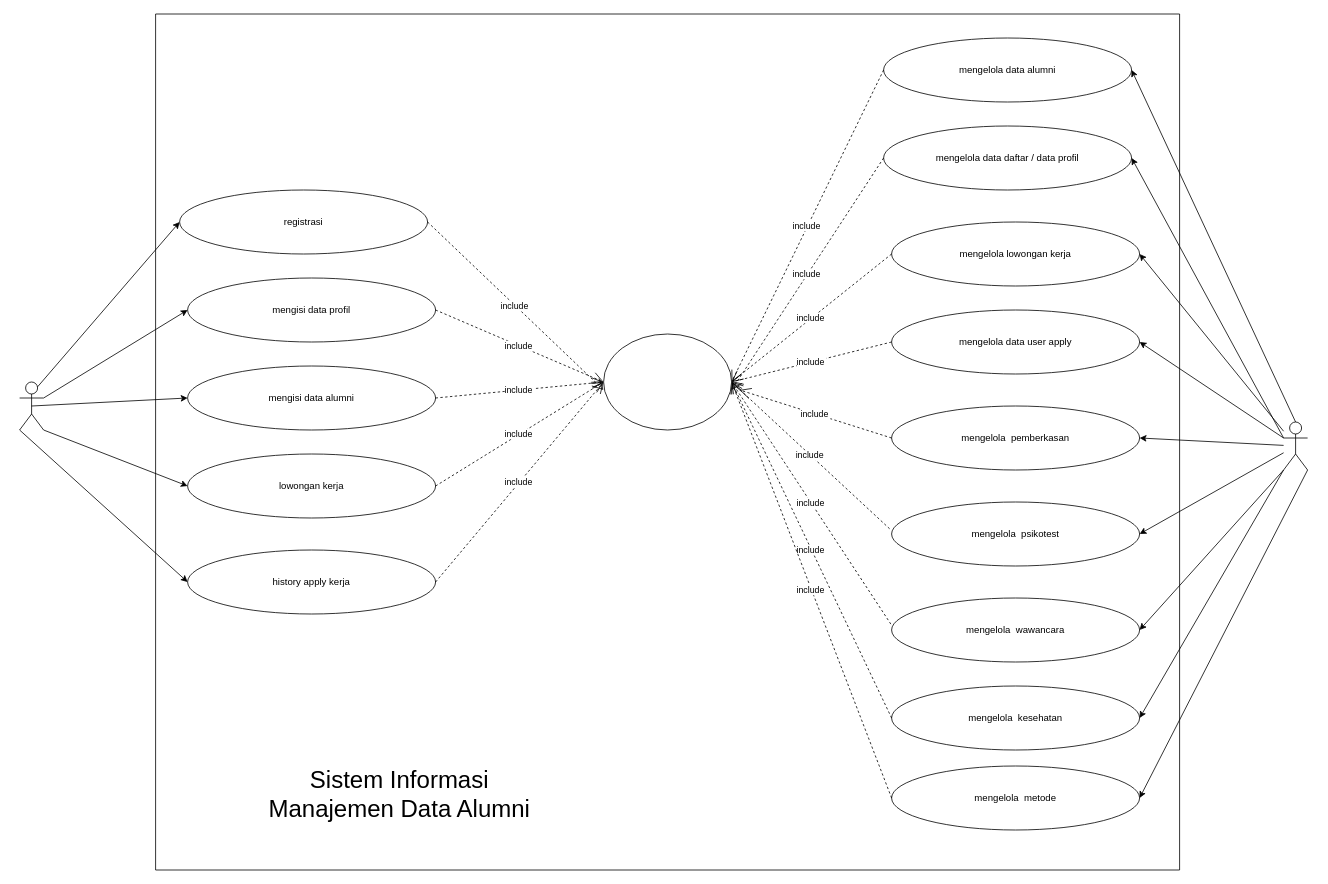
The diagram is 1328 pixels wide and 884 high, and some of its shapes have lost their labels. Each missing label, with the centre of its shape:
"admin" belongs at pixel 1295 445.
"alumni" belongs at pixel 31 405.
"login" belongs at pixel 667 381.
